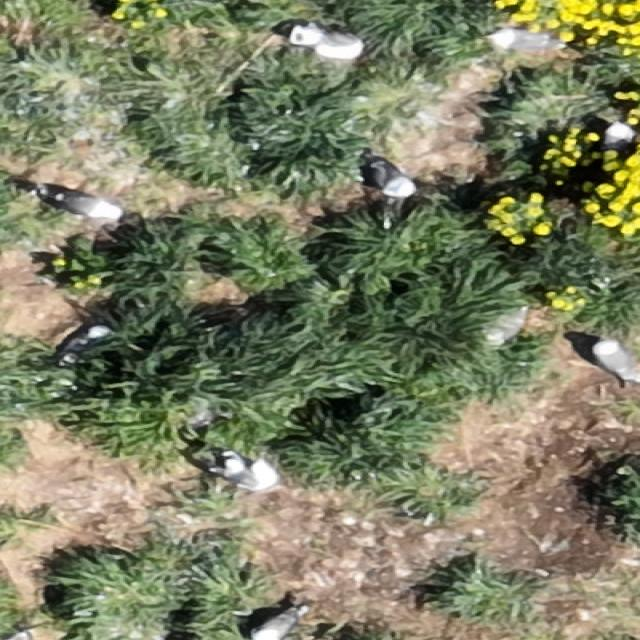umineko: (27, 182, 125, 220), (292, 24, 365, 64), (217, 460, 281, 492), (591, 340, 637, 383), (485, 304, 529, 346), (65, 324, 108, 364), (491, 30, 555, 52), (376, 166, 418, 197), (256, 613, 296, 638), (604, 123, 635, 147)
